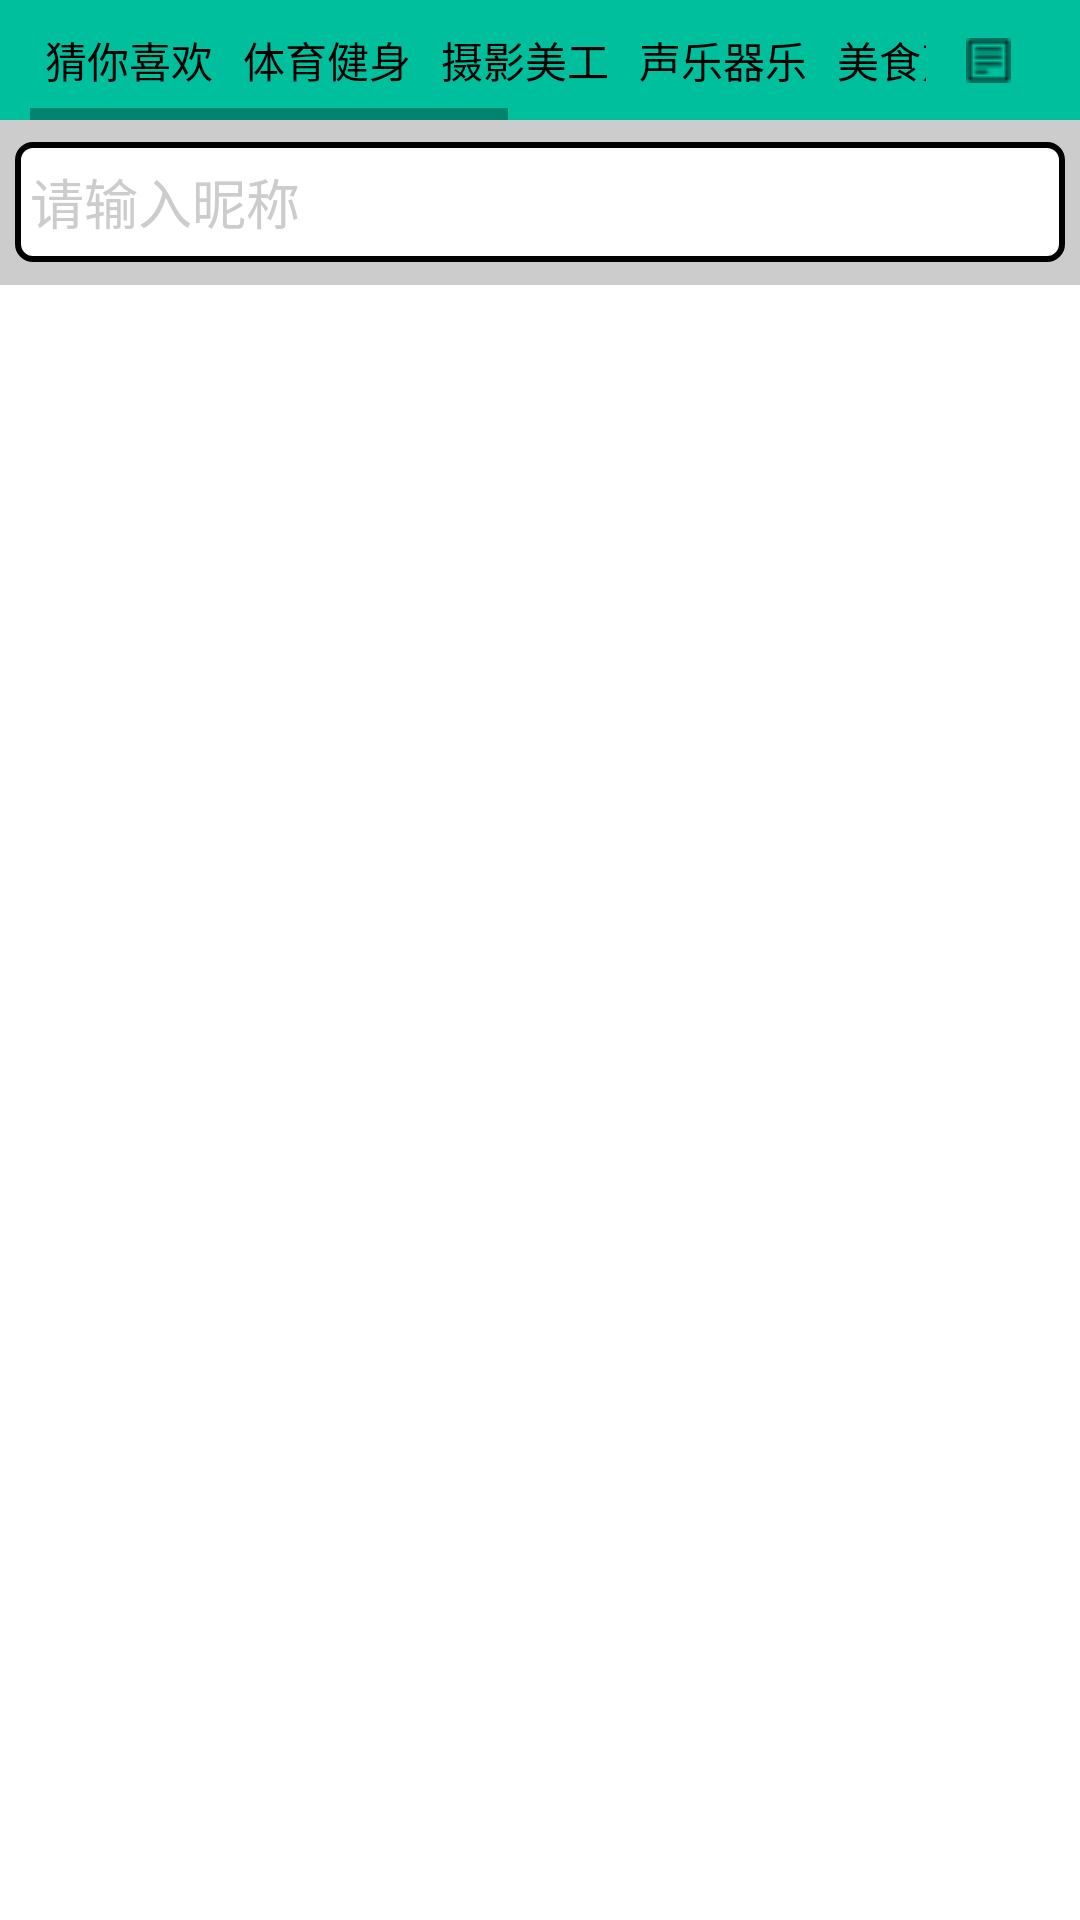

Screen size 1080x1920. Icon name, then its center in pixels as [x,y]:
file: [988,60]
